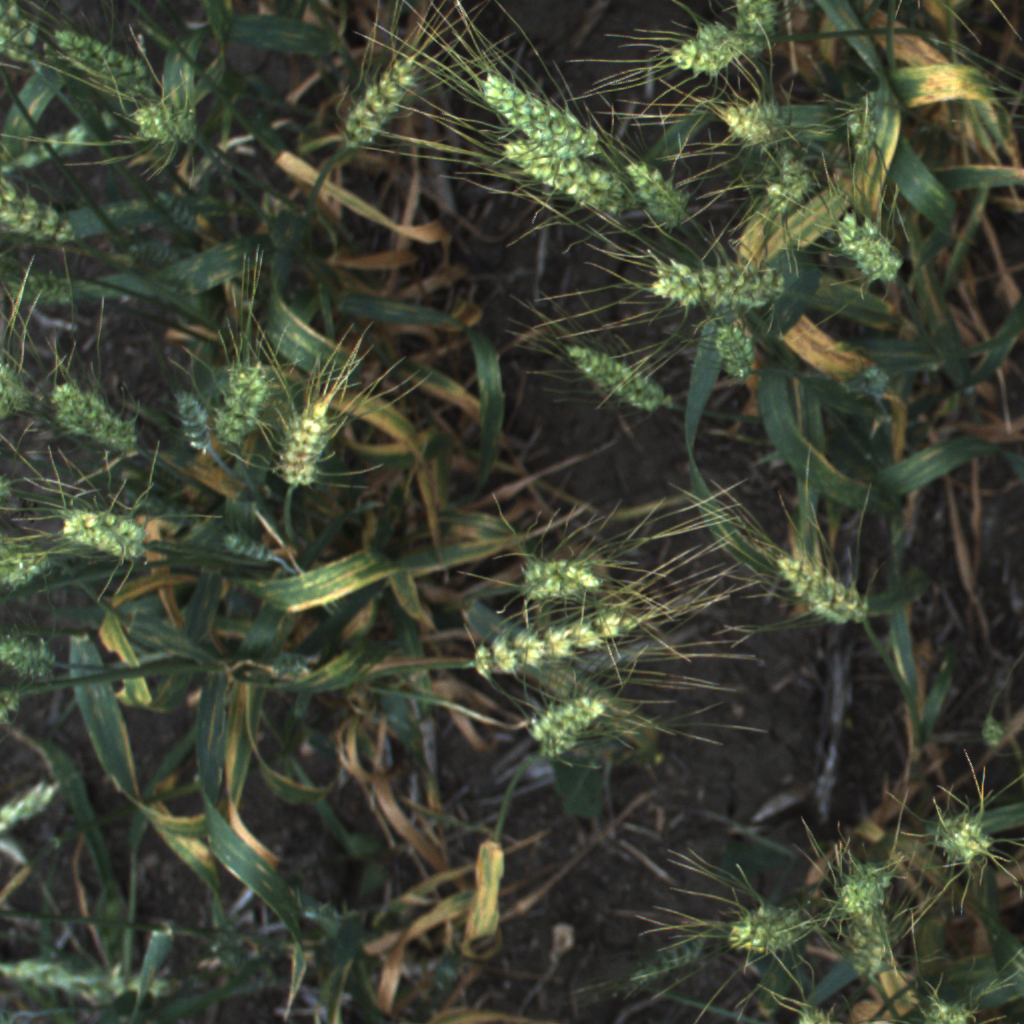wheat_head: (468, 592, 652, 685), (490, 116, 638, 227), (471, 60, 612, 164), (639, 243, 795, 323), (764, 535, 877, 635), (559, 333, 682, 423), (512, 677, 631, 770), (45, 369, 158, 465), (43, 17, 167, 103), (3, 941, 160, 1008), (498, 535, 621, 618), (269, 374, 352, 496), (57, 491, 169, 577), (0, 168, 96, 262), (828, 202, 918, 295), (210, 344, 281, 457), (715, 892, 825, 964), (619, 151, 709, 234), (834, 894, 904, 991), (661, 18, 766, 82), (345, 59, 420, 148), (120, 90, 212, 160), (0, 762, 75, 840), (711, 91, 799, 157), (620, 931, 718, 990), (710, 300, 770, 387), (820, 852, 899, 912), (751, 160, 821, 226), (930, 812, 1001, 876), (0, 527, 58, 604), (0, 0, 67, 66), (171, 382, 224, 465), (0, 629, 70, 691), (726, 0, 798, 40), (768, 997, 871, 1024), (841, 100, 881, 152), (1017, 77, 1024, 146)
